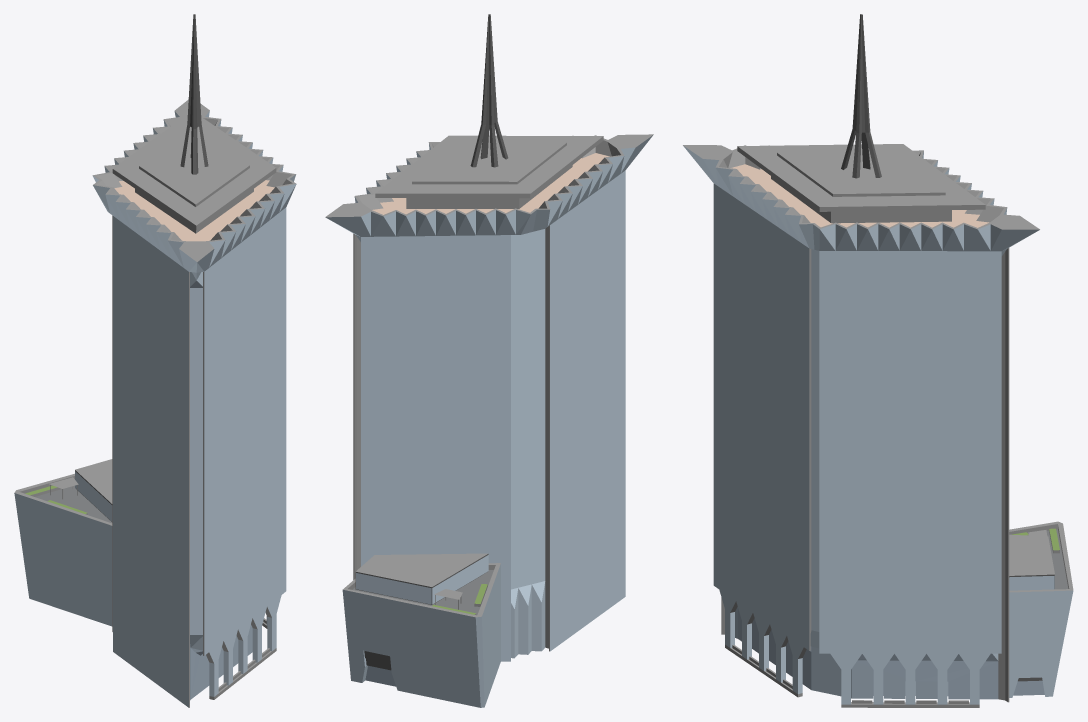
3 views of the same model, side by side, from view 1: azimuth 30°, elevation 25°; view 2: azimuth 150°, elevation 25°; view 3: azimuth 270°, elevation 25° (orthographic). The views are drawn at different scales.
Visible parts, largest first — view 1: 70030076201847993lod; view 2: 70030076201847993lod; view 3: 70030076201847993lod.
Boxes of the visible parts, bbox=[...] form: 70030076201847993lod: bbox=[14, 14, 296, 707]; 70030076201847993lod: bbox=[325, 14, 653, 707]; 70030076201847993lod: bbox=[683, 14, 1073, 707].
Bounding box in the file's own units: 59.79 × 212 × 114.
Materials: 1 (1 with a texture image).
